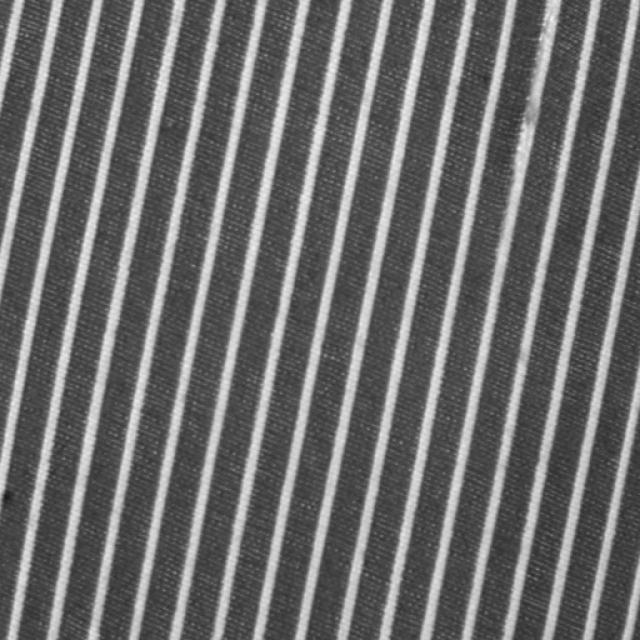Thread-Defect: (502, 0, 561, 229)
